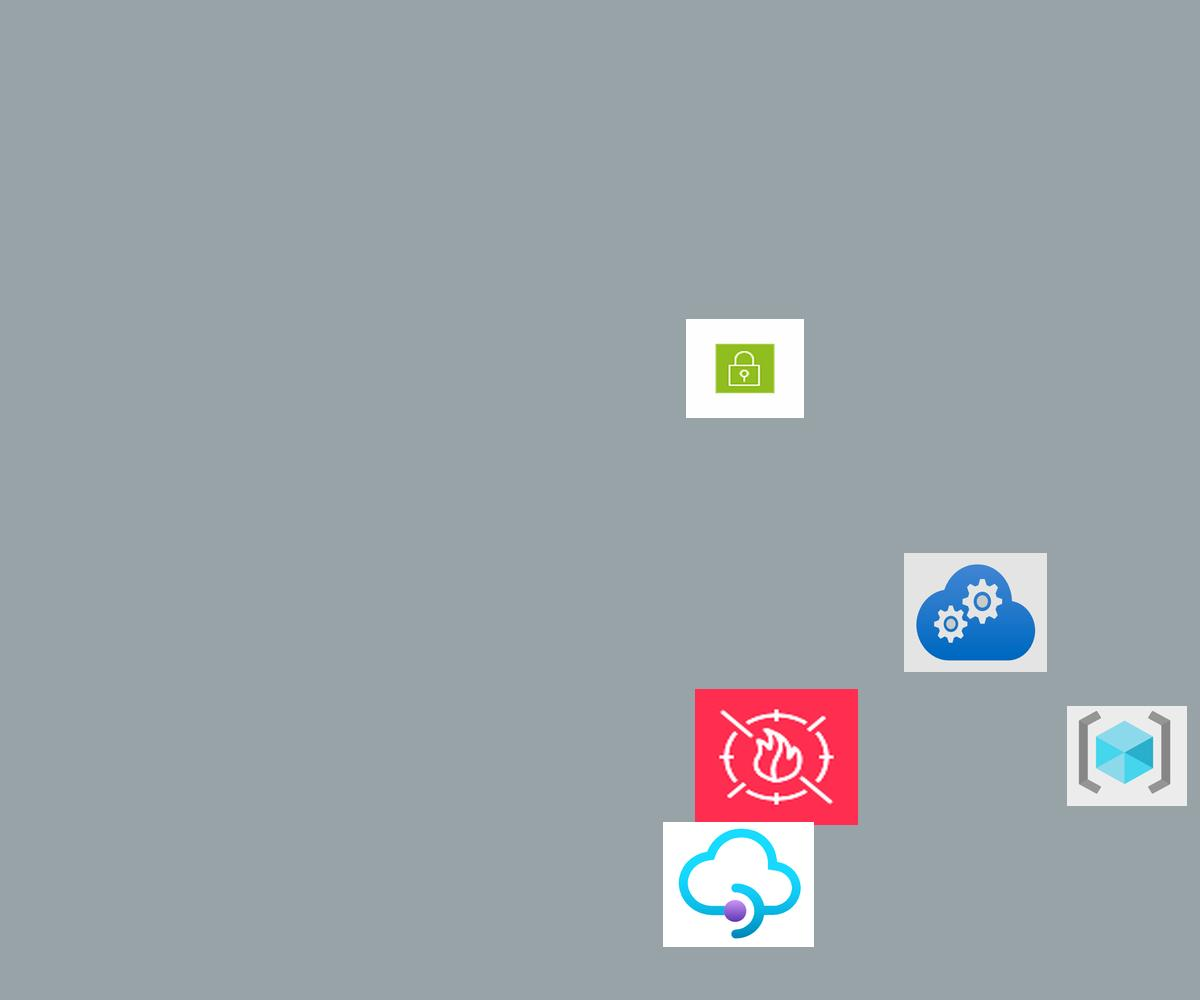AWS-Public-subnet: (686, 319, 804, 418)
AWS-WAF: (695, 689, 858, 825)
Azure_api_gateway: (663, 822, 814, 947)
Azure_cloud_services: (904, 553, 1047, 672)
Azure_resource_group: (1067, 706, 1187, 806)
